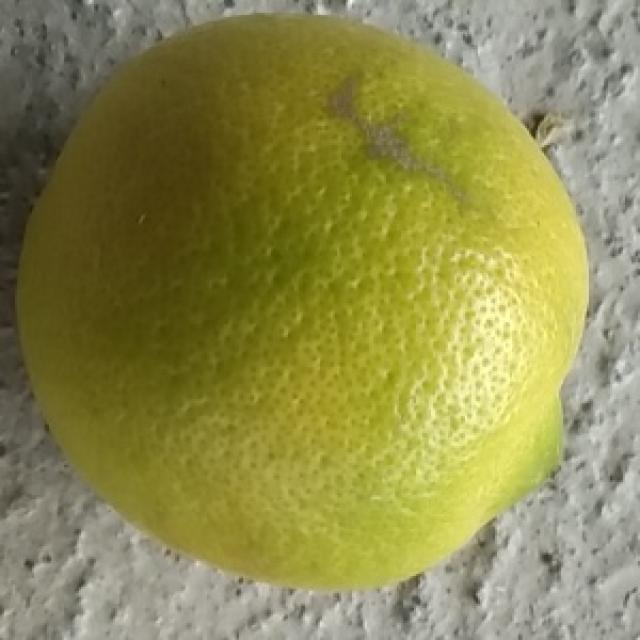Lemon: (11, 9, 590, 592)
